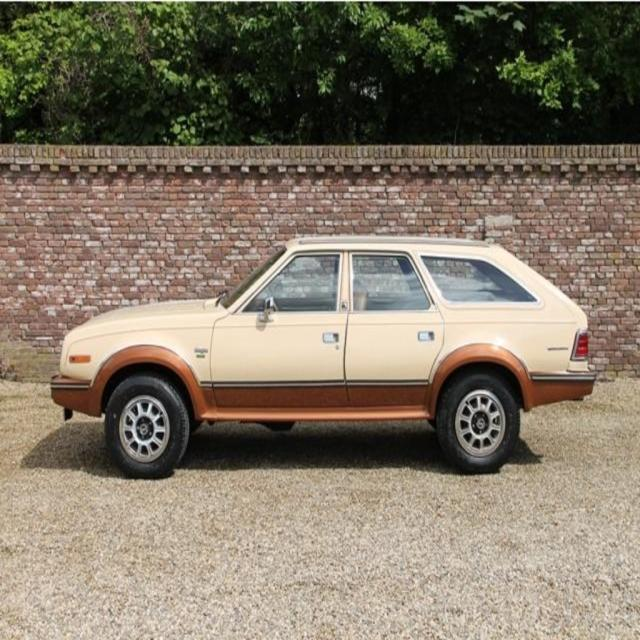car: (50, 239, 592, 476)
